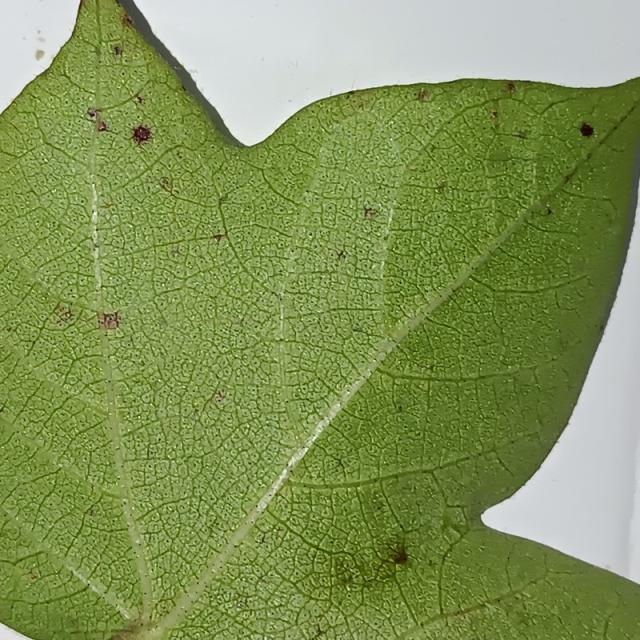Bacterial_Blight: (106, 619, 164, 639), (488, 92, 510, 139), (576, 108, 596, 143), (384, 542, 410, 564), (95, 309, 122, 330), (129, 124, 153, 145), (487, 146, 515, 163), (531, 197, 554, 216), (54, 303, 73, 324), (91, 113, 109, 133), (417, 88, 431, 103), (160, 177, 174, 192), (563, 170, 577, 185), (88, 108, 103, 120), (490, 109, 500, 125), (133, 93, 146, 105), (363, 207, 376, 218), (213, 391, 226, 402), (436, 181, 447, 193), (212, 234, 225, 244), (231, 316, 244, 325), (35, 49, 45, 60), (337, 249, 347, 260), (353, 323, 364, 333), (506, 82, 516, 92), (113, 45, 122, 56), (407, 162, 418, 171), (516, 131, 528, 139), (171, 247, 180, 257), (357, 99, 365, 110), (125, 15, 133, 25), (219, 196, 229, 204), (102, 200, 112, 208), (6, 325, 16, 333), (429, 144, 437, 153), (29, 572, 38, 580), (88, 508, 97, 516), (277, 291, 284, 301), (77, 1, 85, 9), (181, 84, 187, 92), (93, 243, 99, 250), (397, 405, 403, 412)
Cotton: (0, 0, 639, 639)
